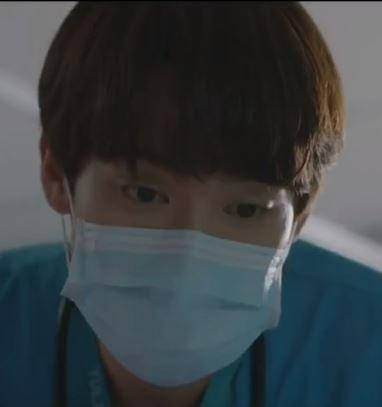OK: (70, 126, 295, 387)
